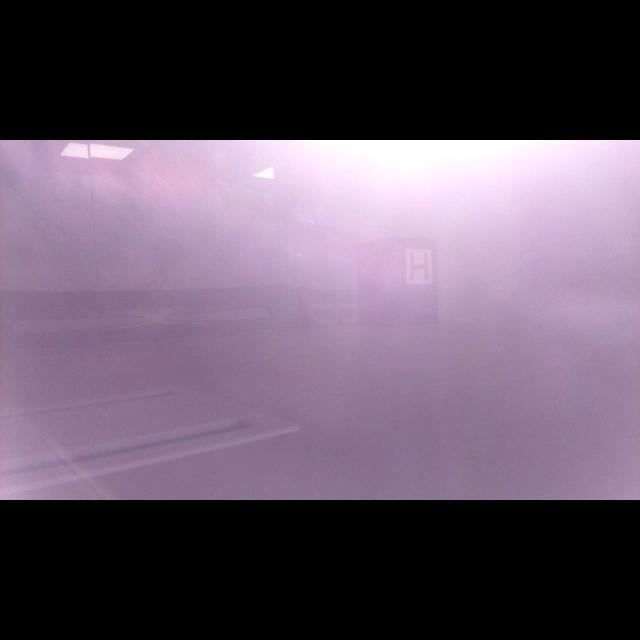H: (409, 252, 428, 280)
